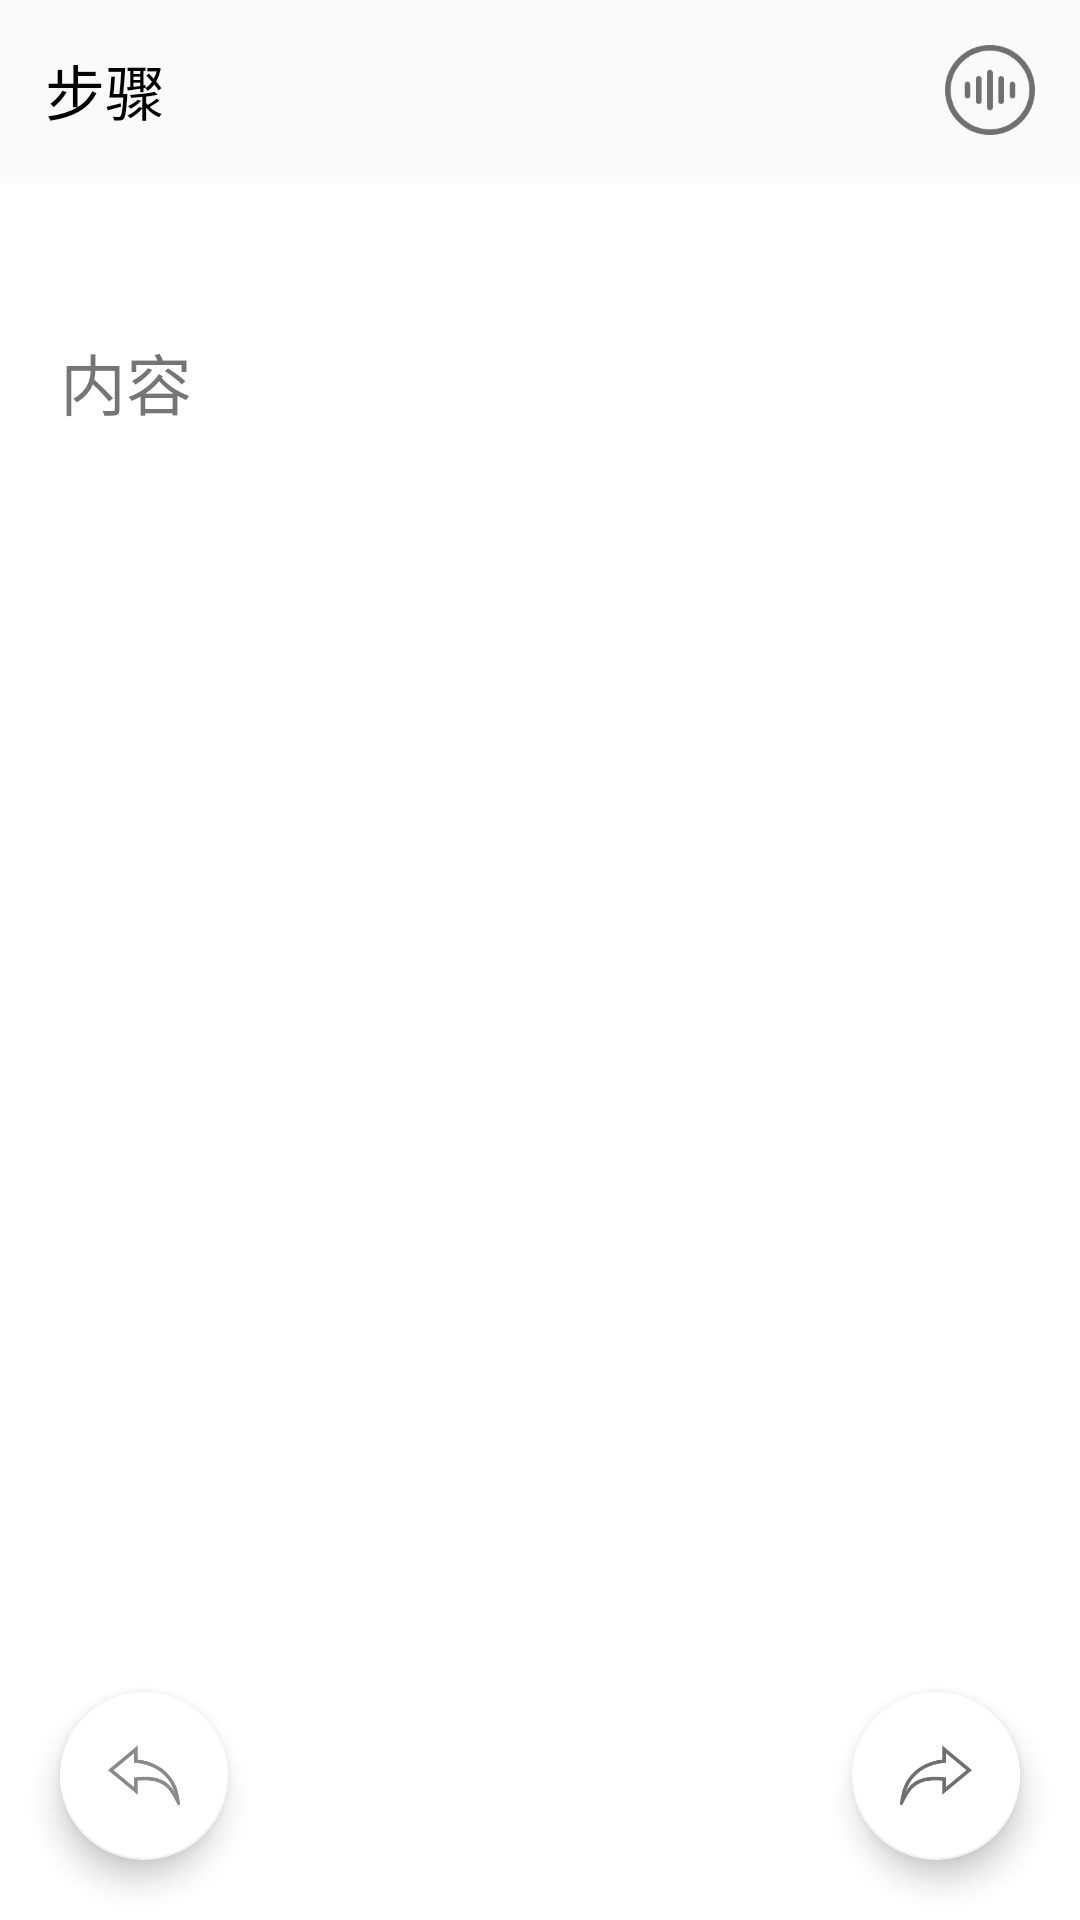

Icon click points for this 1080px x 1920px phone screenshot, format (x,y):
last step: (141,1802)
next step: (938,1802)
voice broadcast: (990,90)
